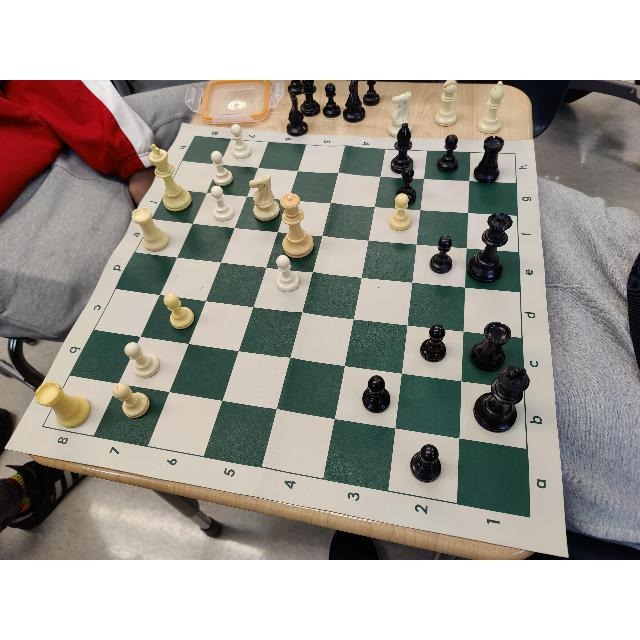black-bishop: (389, 123, 412, 174)
black-king: (473, 367, 530, 433)
black-pawn: (410, 444, 442, 483), (419, 324, 446, 362), (364, 375, 390, 414), (430, 236, 454, 274), (437, 134, 459, 173), (396, 167, 416, 204)
black-queen: (466, 211, 513, 282)
black-rook: (471, 321, 511, 373), (473, 135, 504, 183)
white-king: (148, 143, 192, 212)
white-knight: (249, 174, 280, 222)
white-pawn: (114, 382, 150, 418), (124, 343, 159, 379), (164, 293, 195, 329), (276, 255, 300, 293), (210, 185, 235, 221), (390, 193, 412, 231), (211, 149, 233, 185), (230, 123, 251, 158)
white-queen: (279, 193, 314, 259)
white-rook: (35, 381, 90, 428), (133, 206, 169, 251)
